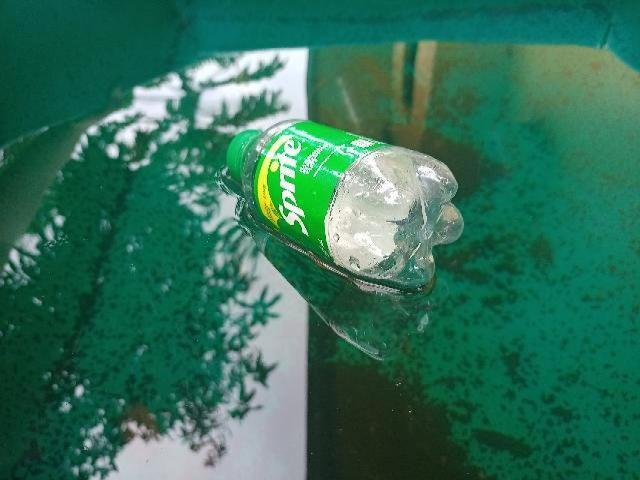Bottle: (209, 113, 470, 309)
